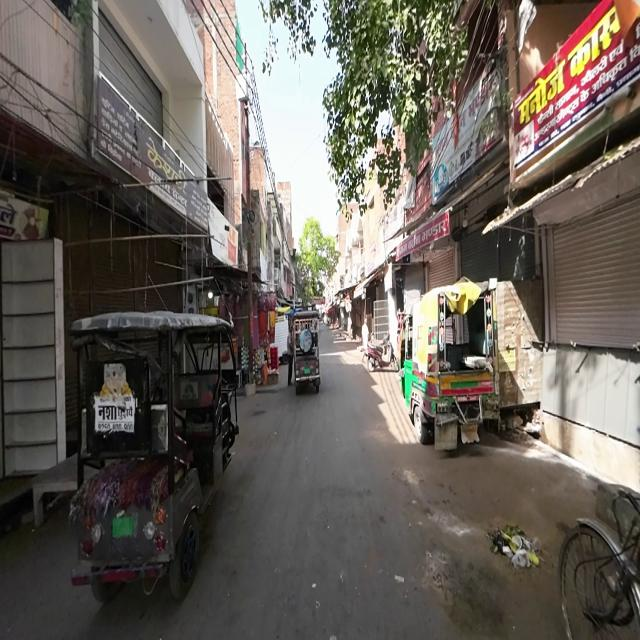Garbage: (486, 524, 543, 570)
